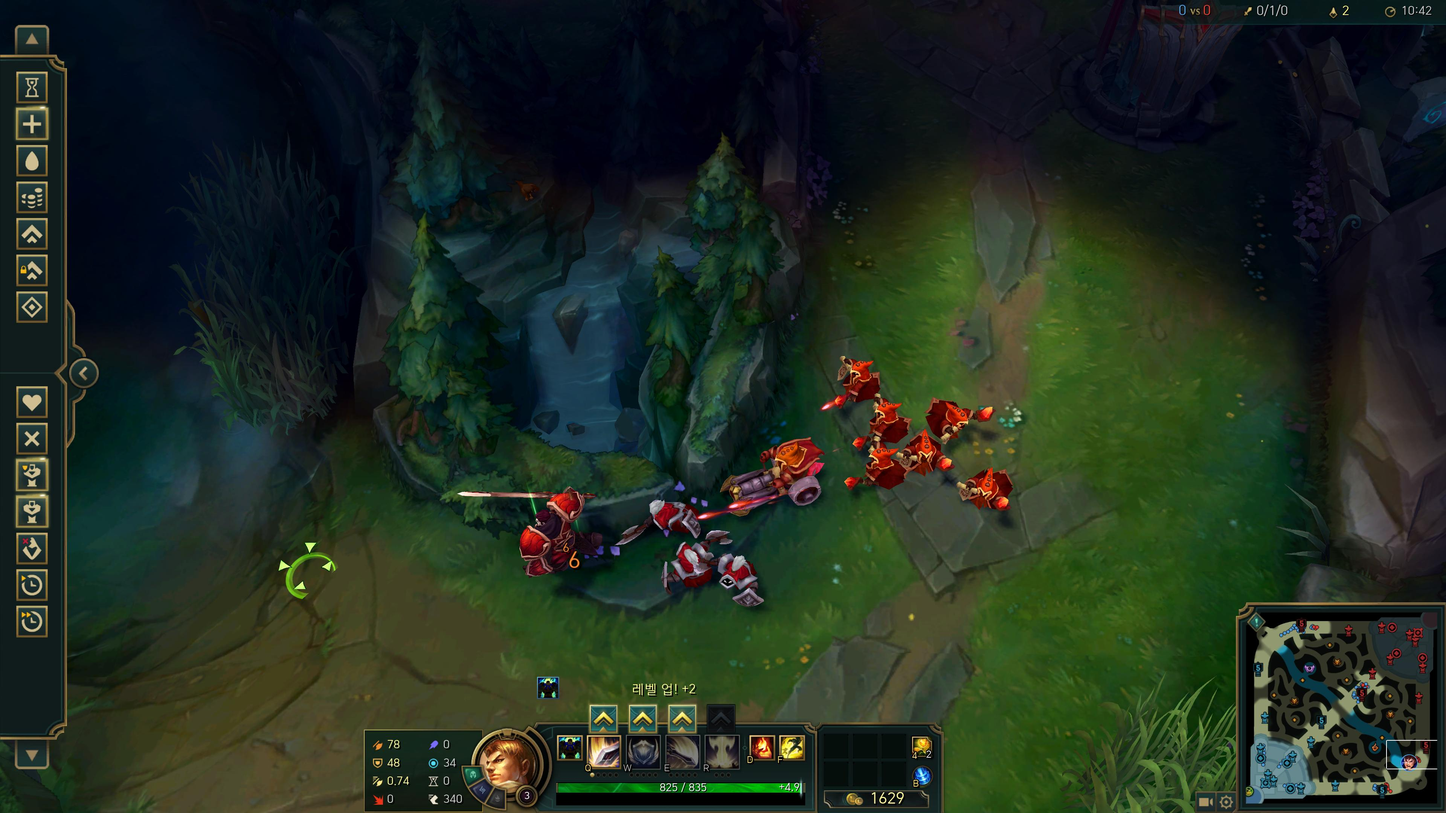enemy-caster-minion: (821, 354, 881, 409), (926, 397, 996, 442), (854, 398, 912, 449), (896, 429, 954, 475), (845, 446, 908, 488), (958, 466, 1014, 509)
enemy-melee-minion: (662, 530, 732, 593), (615, 498, 701, 545), (717, 554, 764, 607)
enemy-siege-minion: (720, 437, 824, 515)
enemy-tower: (1061, 0, 1242, 150)
